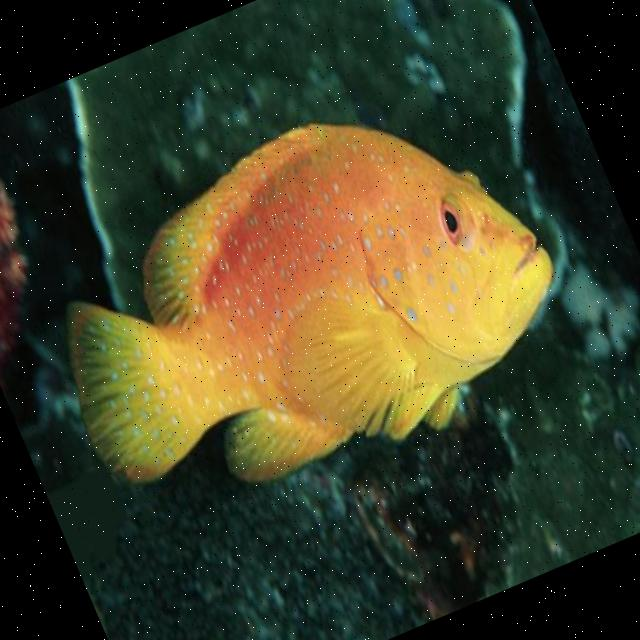ikan: (5, 50, 598, 559)
